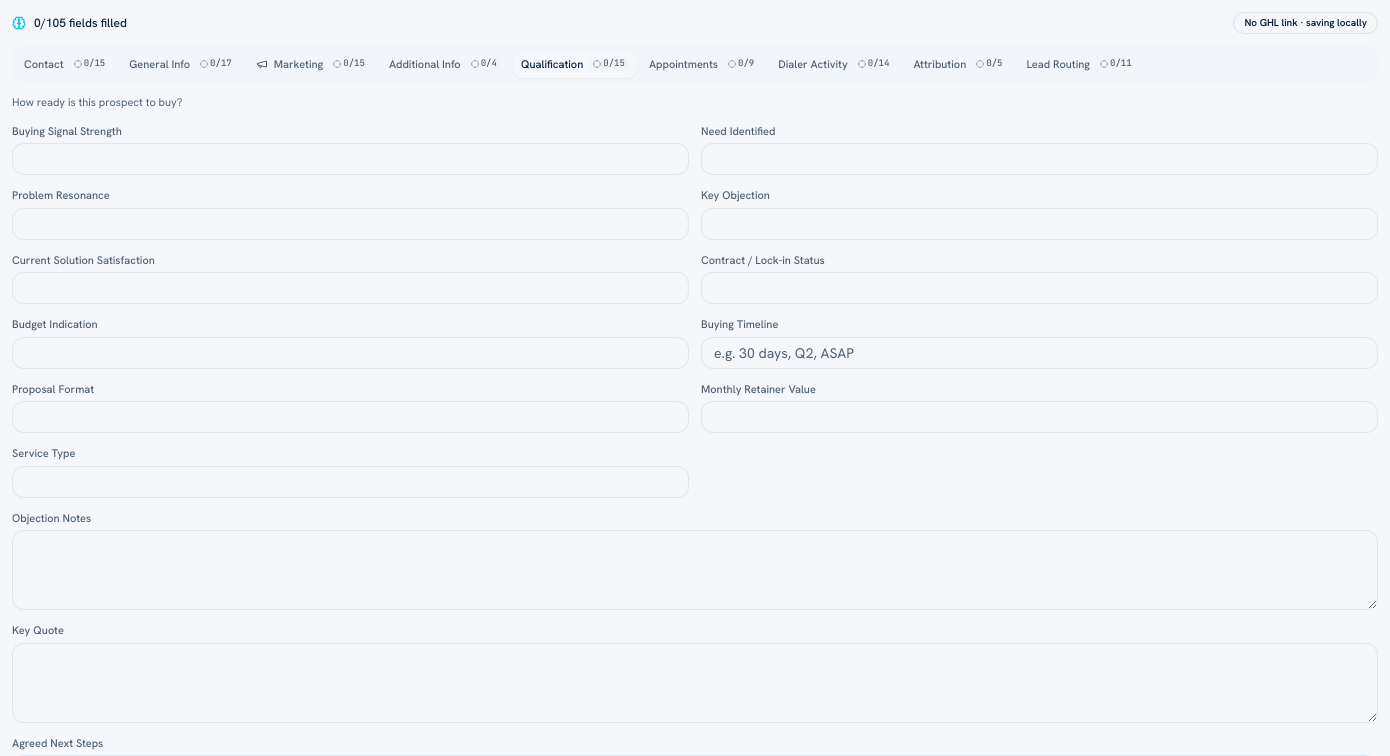
Test case: Intelligence tab carries the dialer's fields and GHL's › shows Marketing as one tab: the capture on top, then the folder's other fields, none twice
Press the mouse on the tab "Marketing 0/15" at (312, 64), box [248, 50, 377, 78]
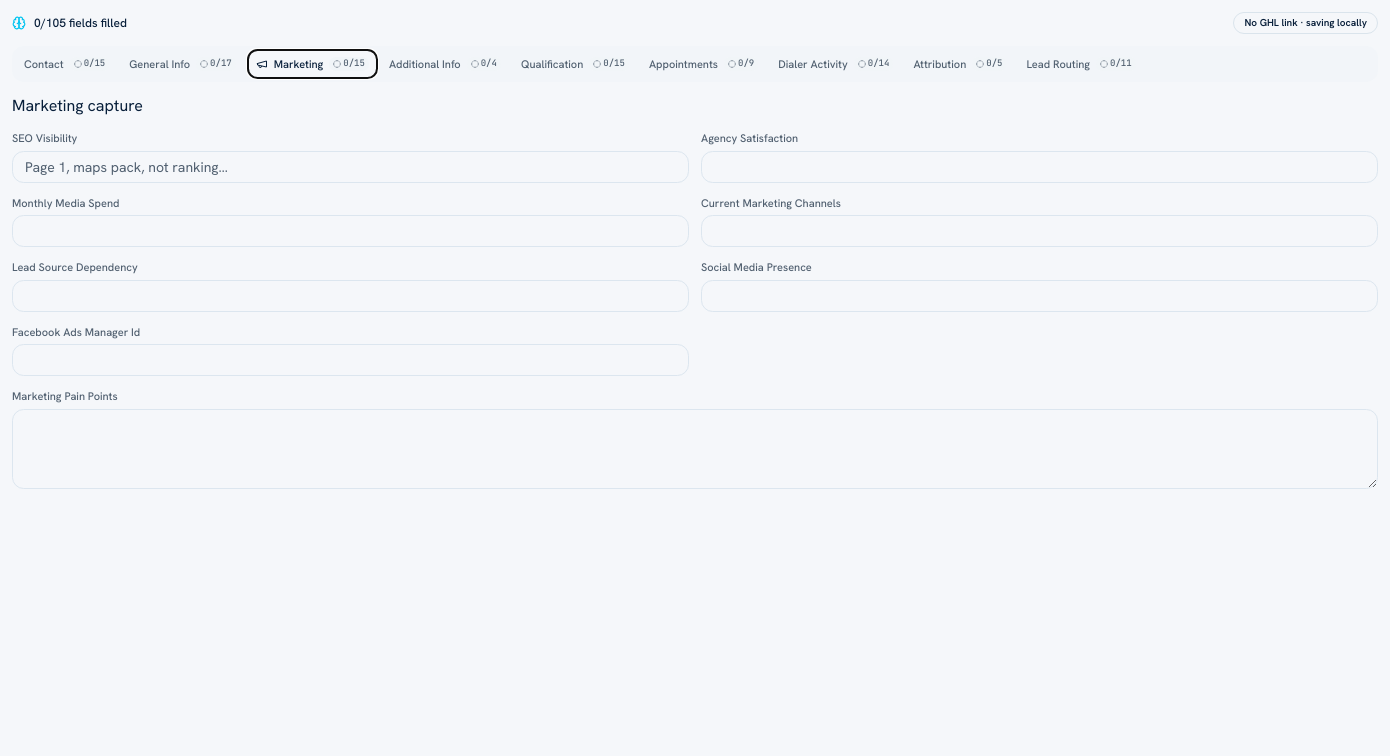
expect the text "Marketing capture" is shown: met, box [12, 95, 143, 116]
expect the text "Marketing Pain Points" is shown: met, box [12, 388, 118, 404]
expect the text "Agency Satisfaction" is shown: met, box [701, 130, 798, 146]
Press the mouse on the tab "Additional Info 0/4" at (445, 64), box [381, 50, 509, 78]
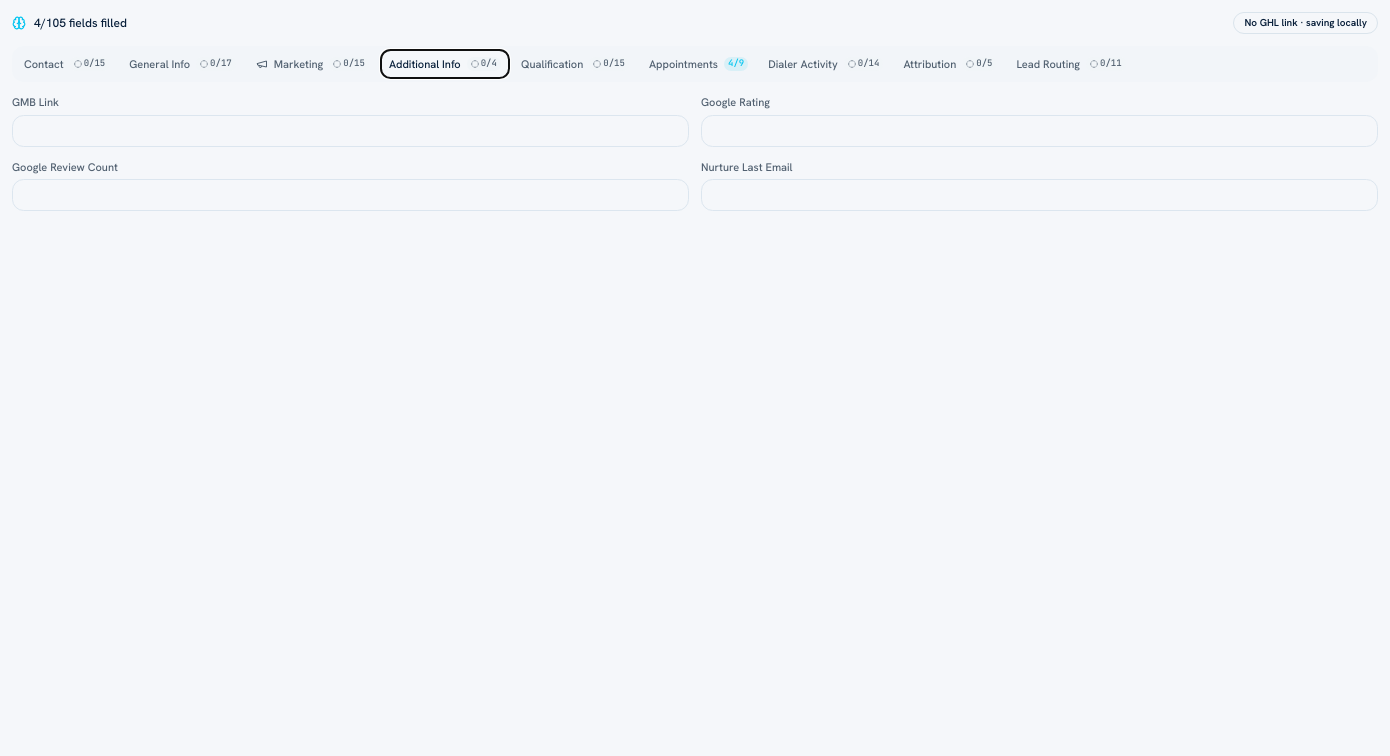
expect the text "GMB Link" is shown: met, box [12, 94, 59, 110]
expect the text "Monthly Media Spend" is gone: met
